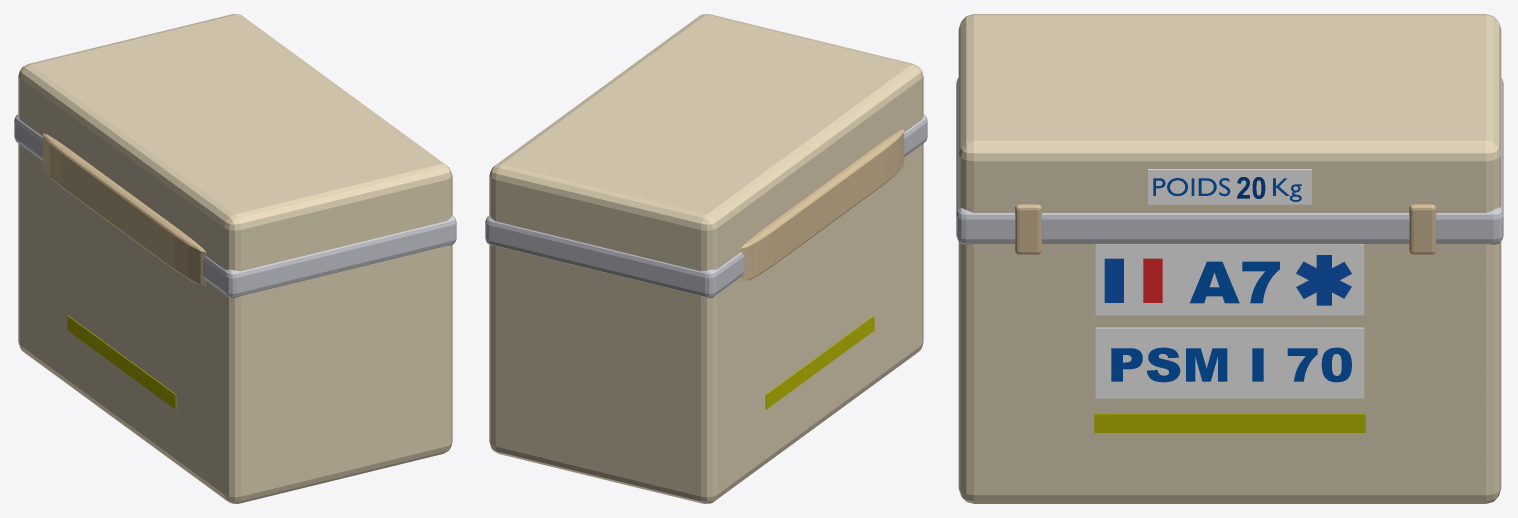
Rendered from MalleA7.fbx.
3 renders of one model, left to right at view 1: azimuth 30°, elevation 25°; view 2: azimuth 150°, elevation 25°; view 3: azimuth 270°, elevation 25°, orthographic. The views are drawn at different scales.
Visible parts, largest first — view 1: Malle_PSM, Anneau, Loquet.002, Bande_Rouge; view 2: Malle_PSM, Anneau, Loquet.002, Bande_Rouge; view 3: Malle_PSM, Anneau, Etiquette_PSM, Etiquette_A3.001, Bande_Rouge, Etiquette_A3, Texte_PSM, Drabeau Blanc, Texte_A3, Samu, Loquet, Loquet.001 (+1 smaller).
Part boxes in pixels (x1,y1,x2,y2): Malle_PSM: (18,14,452,503); Anneau: (14,114,456,298); Loquet.002: (43,133,206,285); Bande_Rouge: (67,315,176,409); Malle_PSM: (489,14,923,503); Anneau: (485,114,927,298); Loquet.002: (741,129,904,281); Bande_Rouge: (765,315,874,409); Malle_PSM: (958,14,1501,503); Anneau: (956,78,1503,244); Etiquette_PSM: (1095,327,1364,398); Etiquette_A3.001: (1095,244,1364,315); Bande_Rouge: (1094,414,1365,432); Etiquette_A3: (1148,169,1311,204); Texte_PSM: (1111,347,1351,382); Drabeau Blanc: (1104,258,1162,302); Texte_A3: (1190,261,1279,303); Samu: (1296,255,1351,305); Loquet: (1409,204,1436,254); Loquet.001: (1015,204,1041,254).
Size of the model in its own units: 33.45 by 39 by 53.5.
